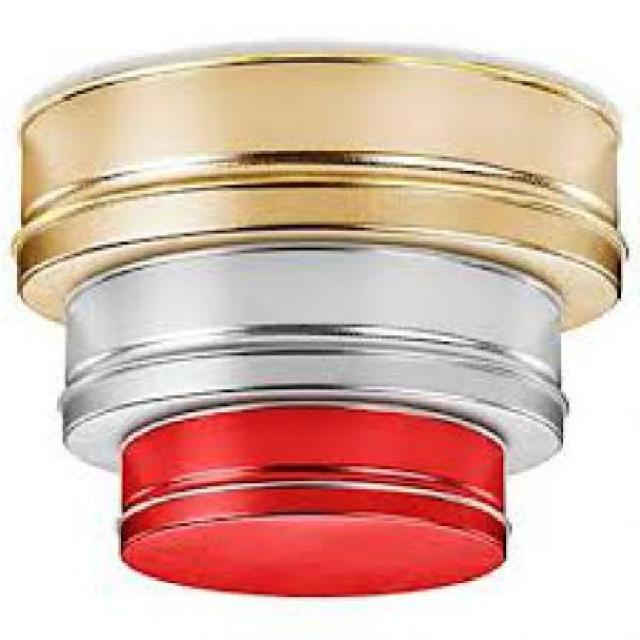METAL: (11, 57, 628, 335), (65, 239, 569, 481), (121, 400, 512, 598)
